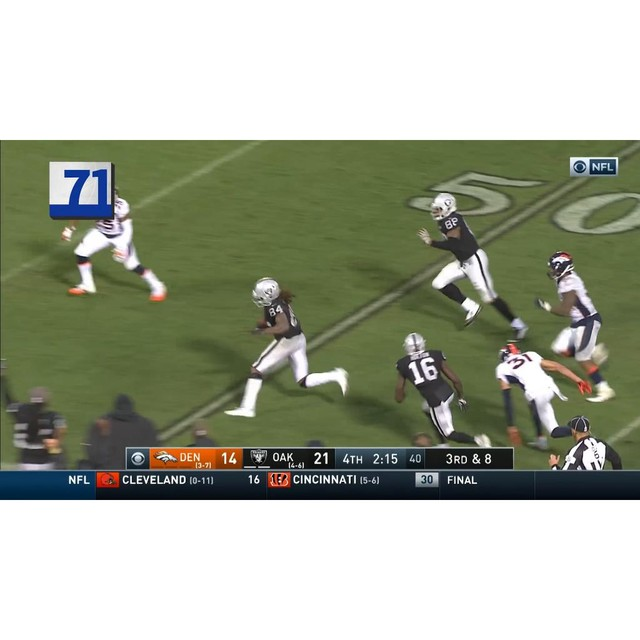american-football-player: (416, 192, 528, 343), (234, 278, 348, 416), (536, 252, 619, 402), (66, 190, 165, 302), (393, 333, 489, 446), (494, 342, 590, 448)
